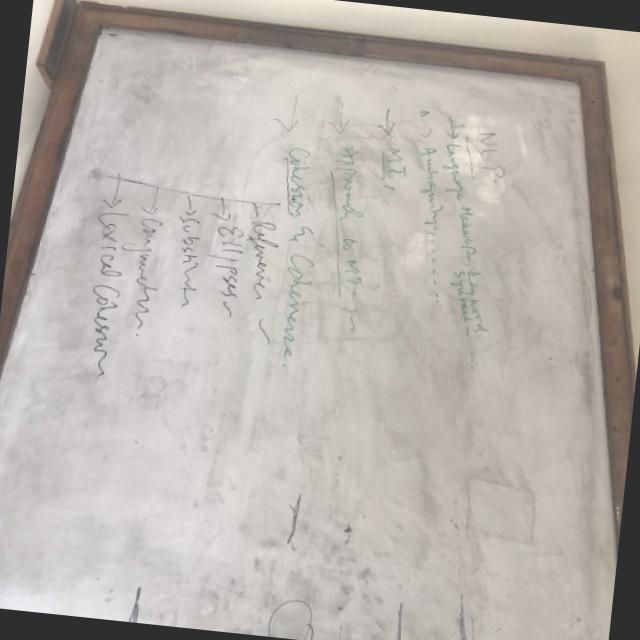White-board: (0, 24, 604, 640)
